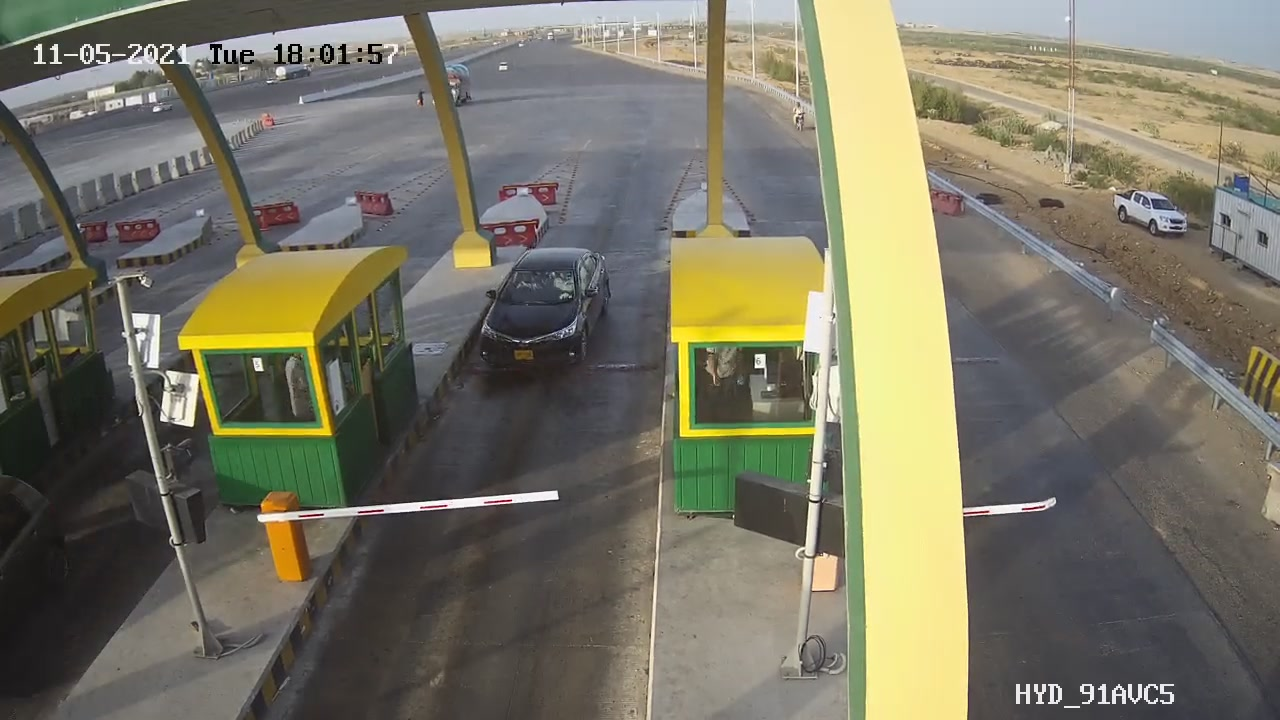F1: (465, 235, 621, 387)
